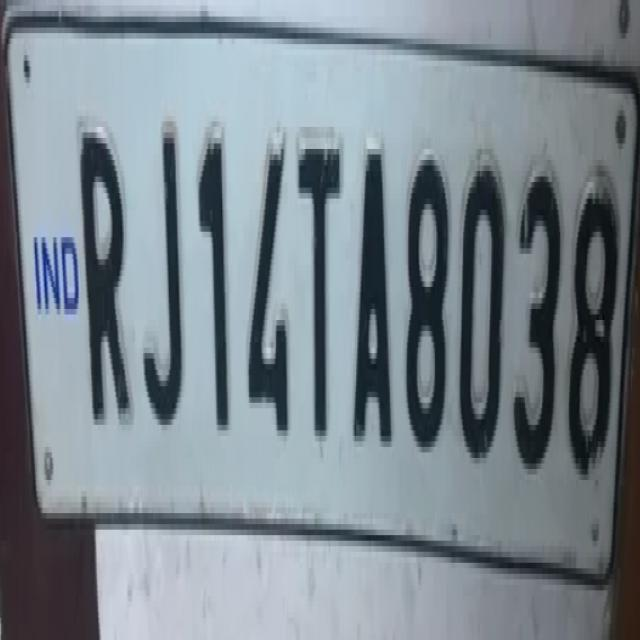0: (458, 130, 506, 482)
1: (194, 102, 236, 470)
3: (512, 136, 560, 482)
4: (244, 98, 292, 450)
8: (566, 160, 618, 509), (404, 142, 449, 450)
A: (353, 111, 396, 452)
J: (137, 105, 185, 445)
R: (74, 111, 132, 442)
T: (294, 111, 344, 435)
